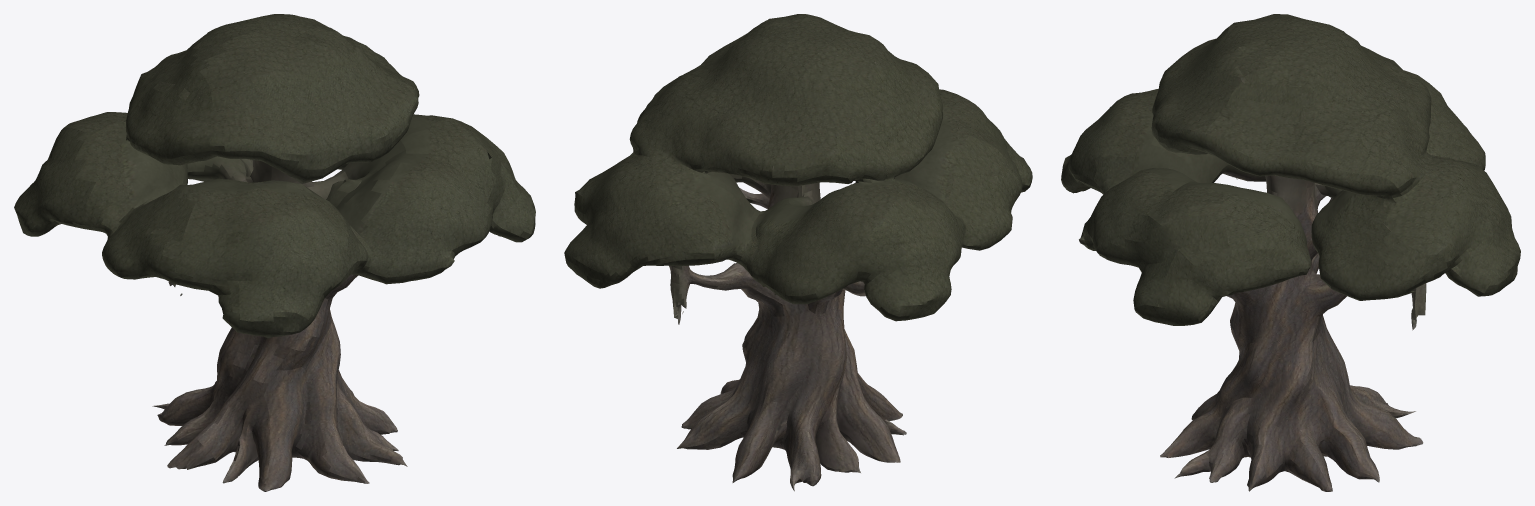
The model's file is ok-tree-oak-meshy.glb.
The picture shows the model from 3 angles, left to right: view 1: azimuth 30°, elevation 25°; view 2: azimuth 150°, elevation 25°; view 3: azimuth 270°, elevation 25°; orthographic projection. The views are drawn at different scales.
Bounding box in the file's own units: 1.85 × 1.83 × 1.84.
1 material, 1 textured.
